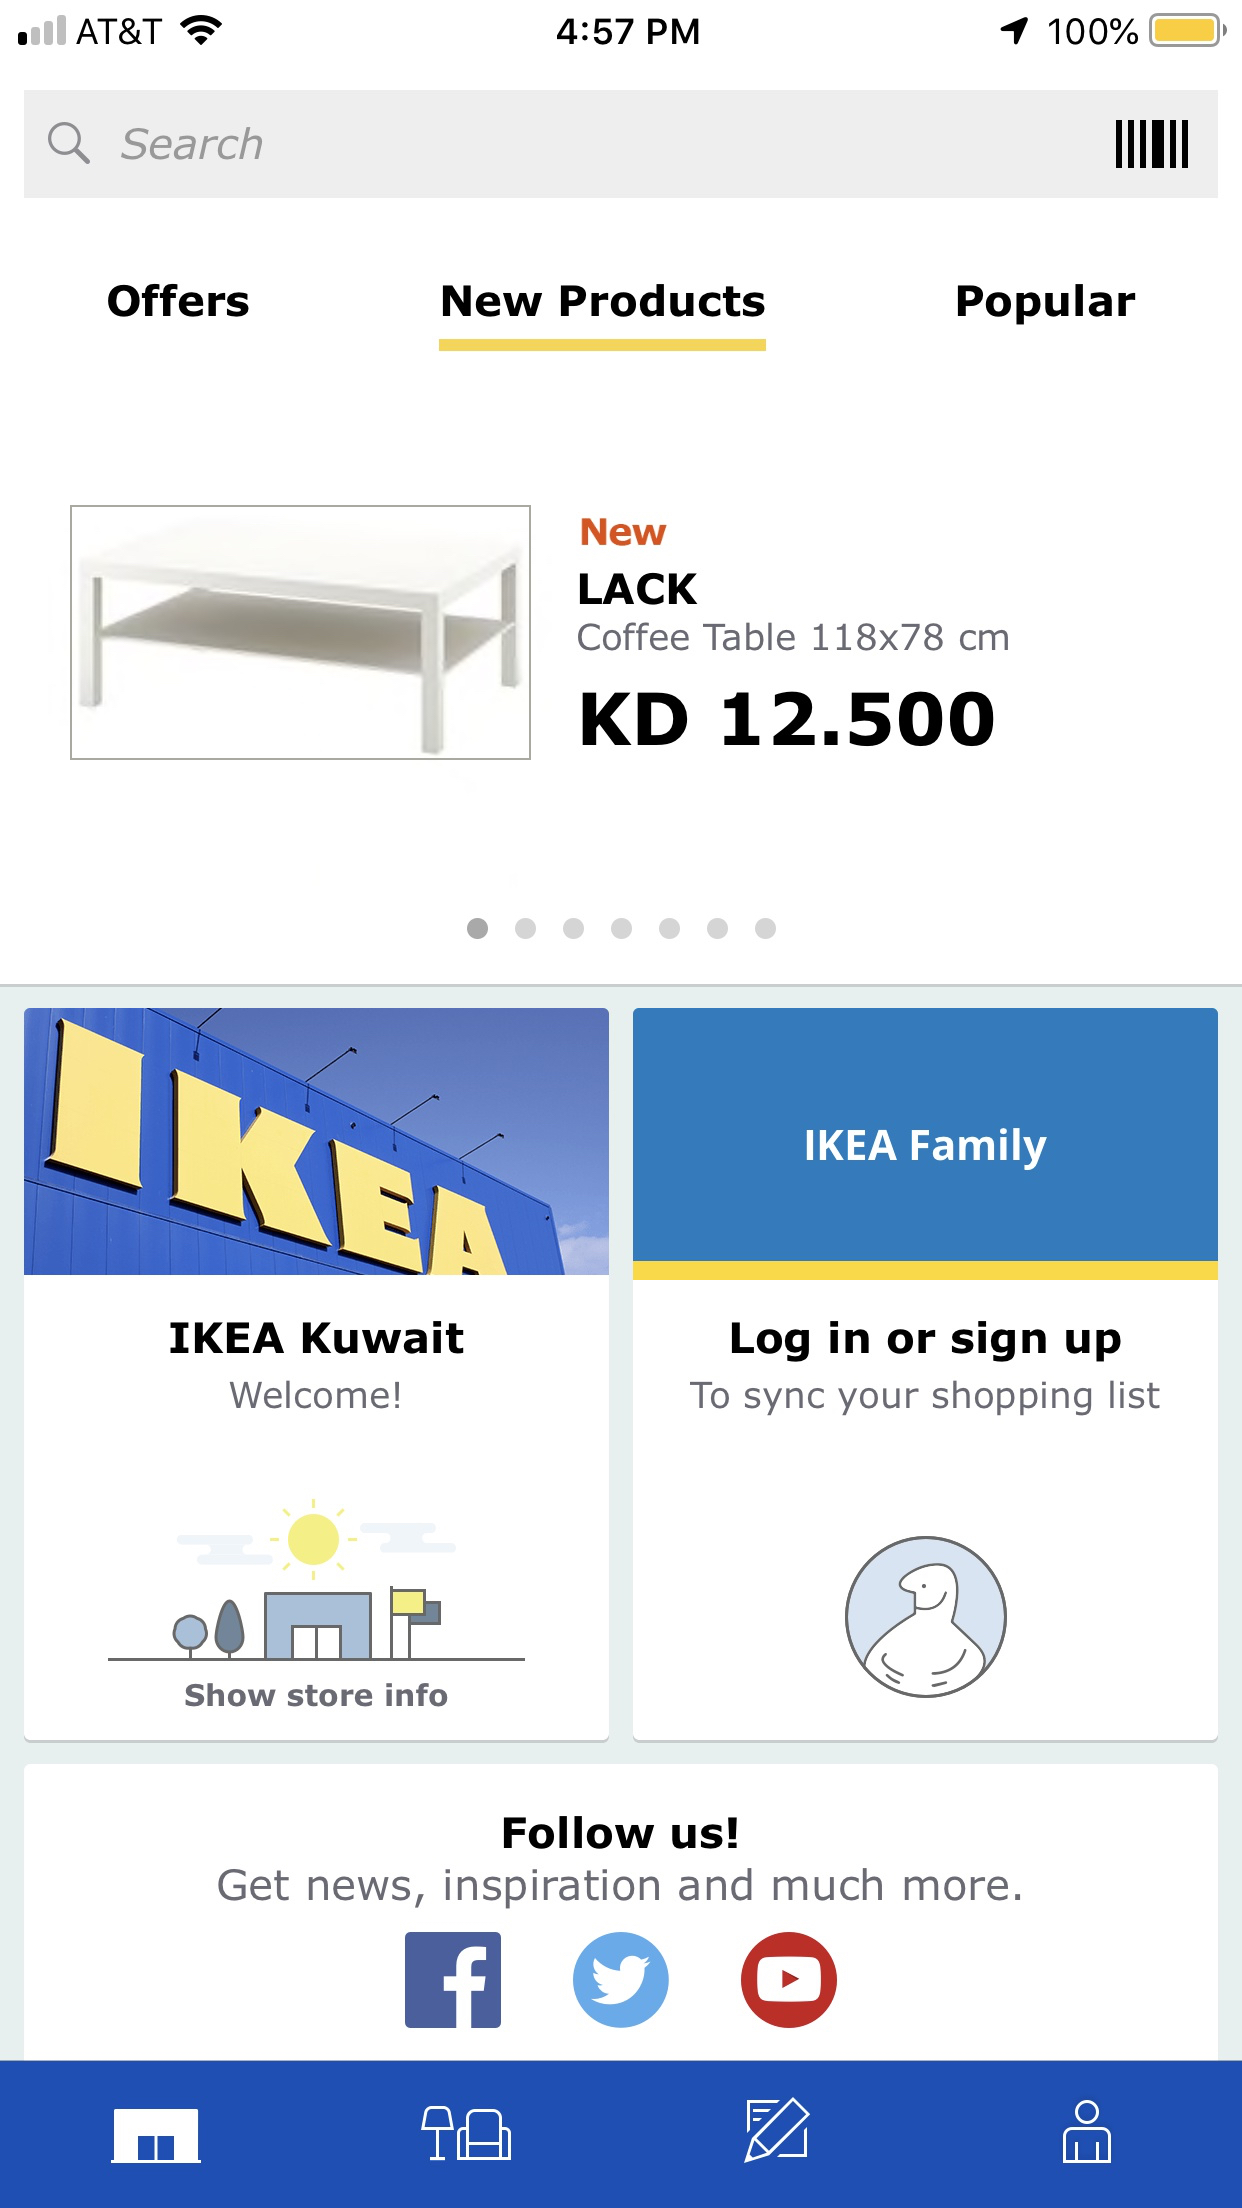EditText: (24, 91, 1218, 199)
Icon: (740, 1930, 839, 2029), (405, 1932, 502, 2029), (573, 1930, 670, 2028), (743, 2096, 811, 2164), (1062, 2099, 1112, 2164), (49, 123, 91, 165)
Image: (24, 1008, 610, 1275), (70, 505, 532, 761), (108, 1498, 526, 1662), (845, 1535, 1008, 1698), (422, 2105, 513, 2163), (111, 2108, 202, 2164), (1115, 120, 1187, 168)
PageIndicator: (466, 917, 776, 942)
Text: (218, 1868, 1021, 1909), (582, 692, 993, 748), (690, 1380, 1162, 1416), (731, 1321, 1121, 1363), (578, 622, 1008, 652), (443, 284, 766, 318), (805, 1127, 1048, 1171), (170, 1321, 466, 1356), (503, 1815, 739, 1850), (957, 284, 1136, 326), (185, 1683, 447, 1708), (231, 1380, 400, 1410), (108, 284, 250, 318), (121, 127, 262, 161), (579, 572, 698, 607), (581, 517, 667, 547)
UpperTaskBar: (2, 2, 1242, 49)
